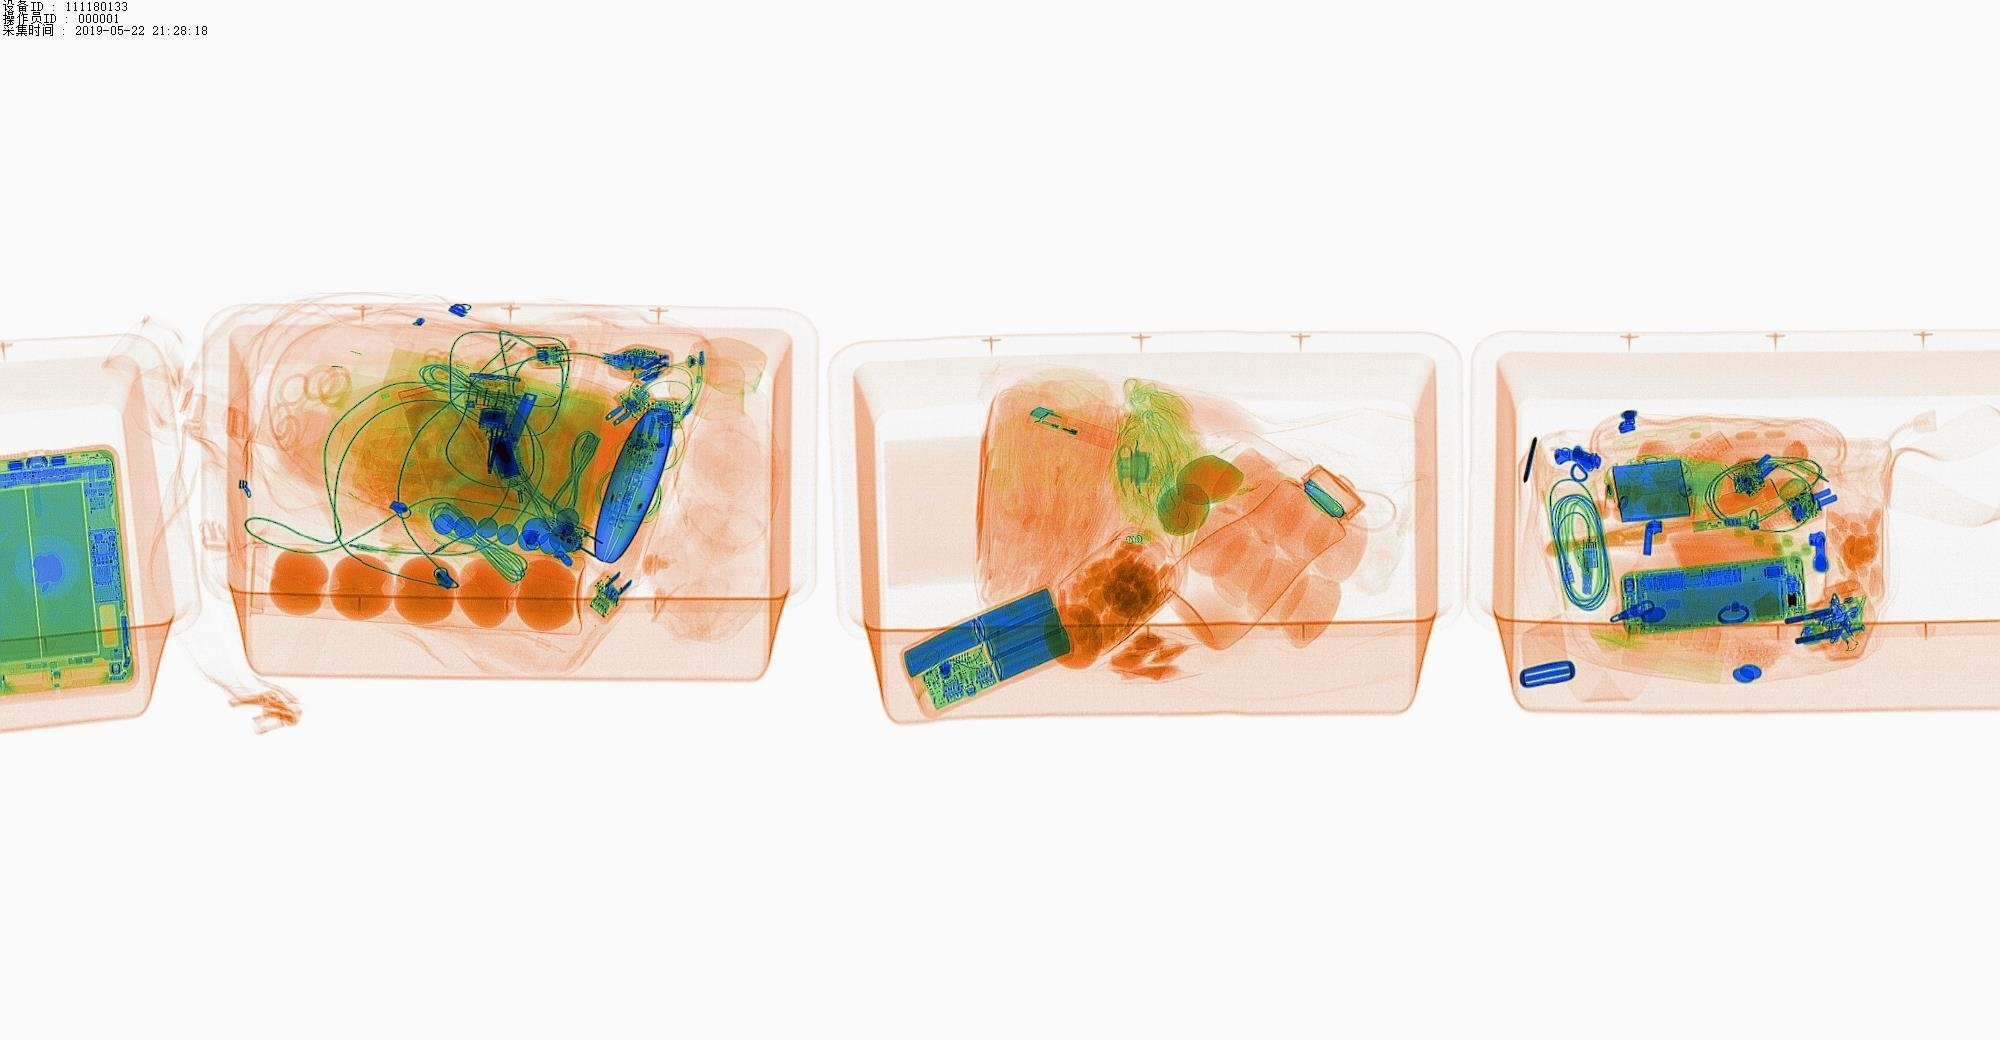NonmetallicFire: (1024, 390, 1138, 453)
